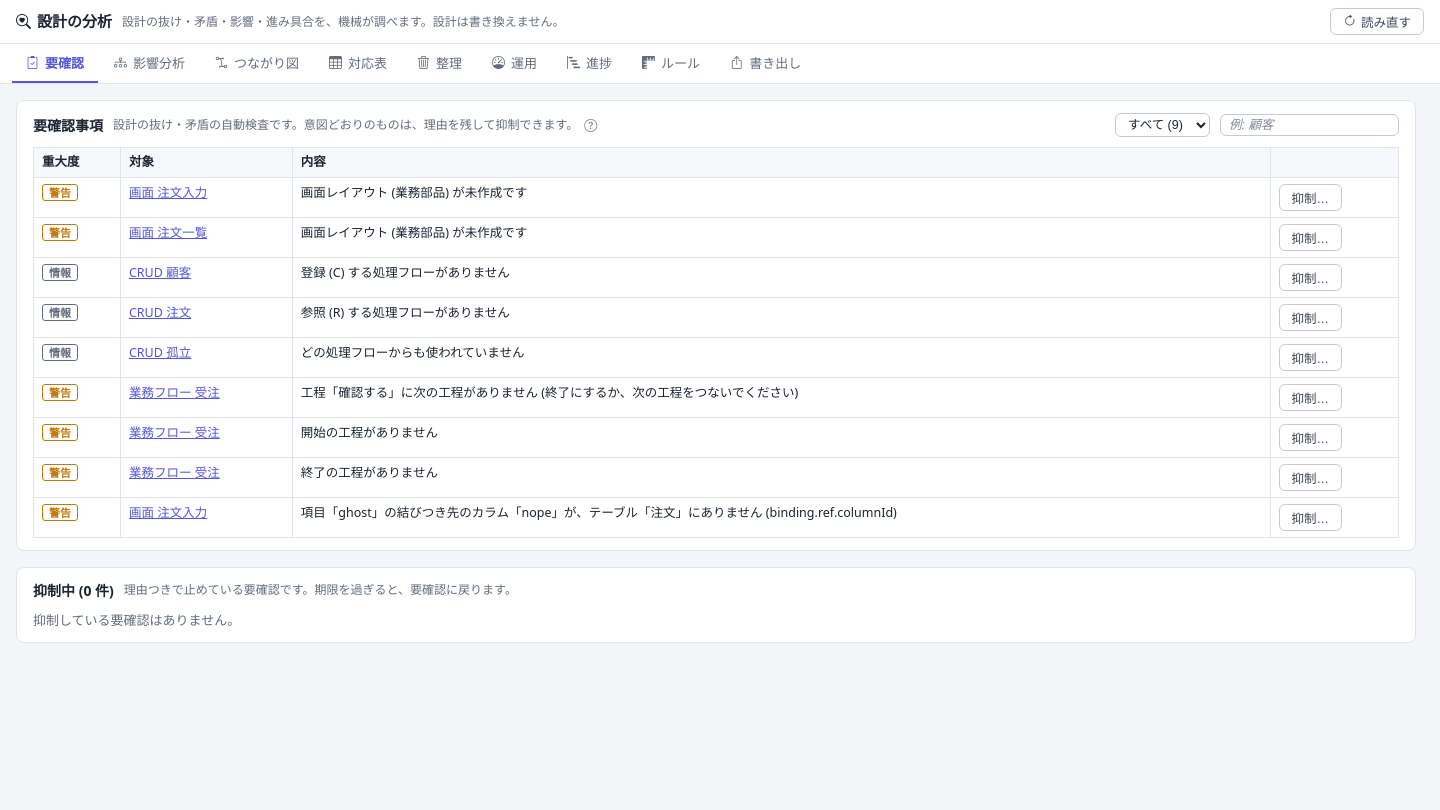
Test: 影響分析 › 誰も頼っていない設計は、その旨を出す
Click the tab "影響分析" at (150, 64), box [100,44,199,83]
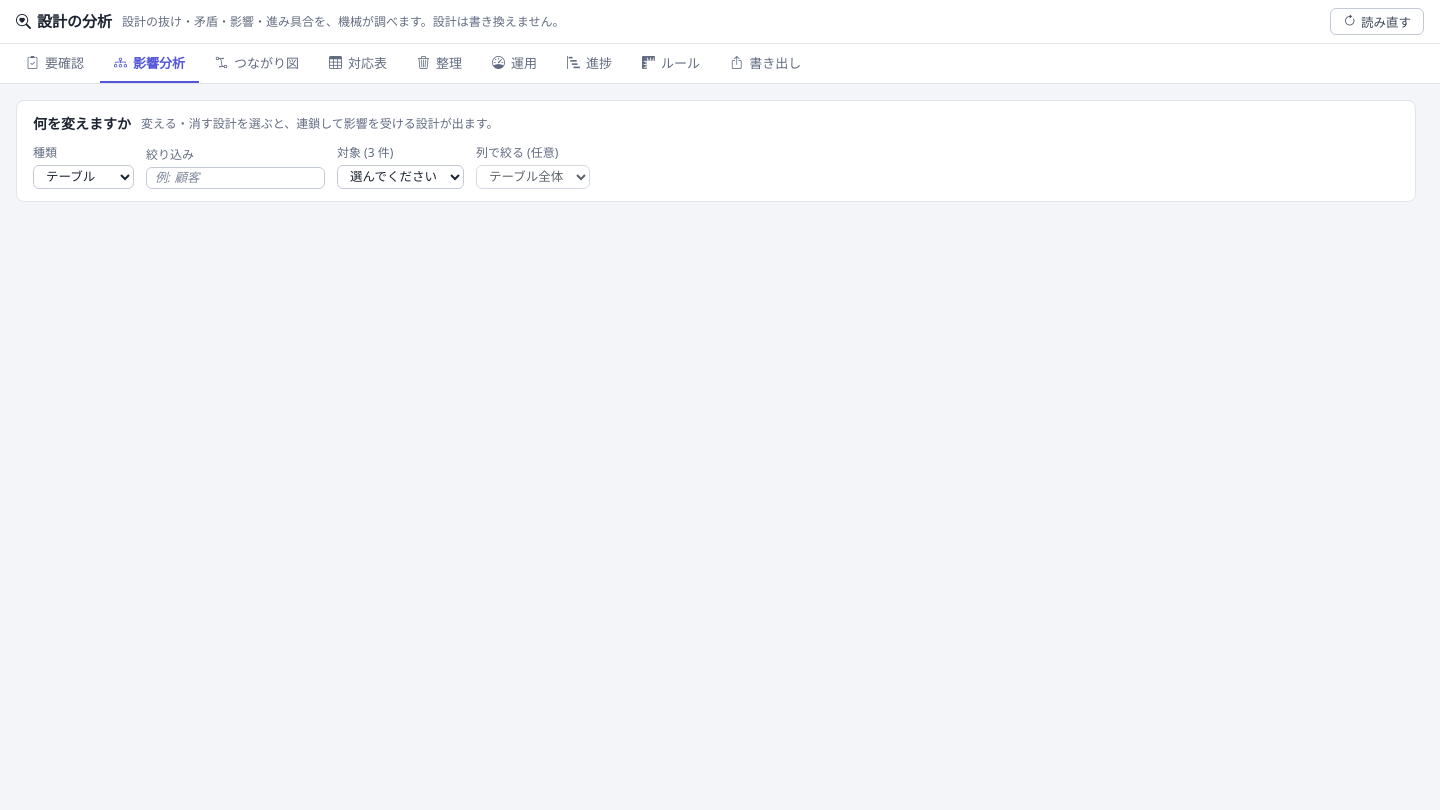
Select "孤立 (lonely)" in the dropdown with test id "an-impact-target" at (400, 177), box [337,165,464,189]
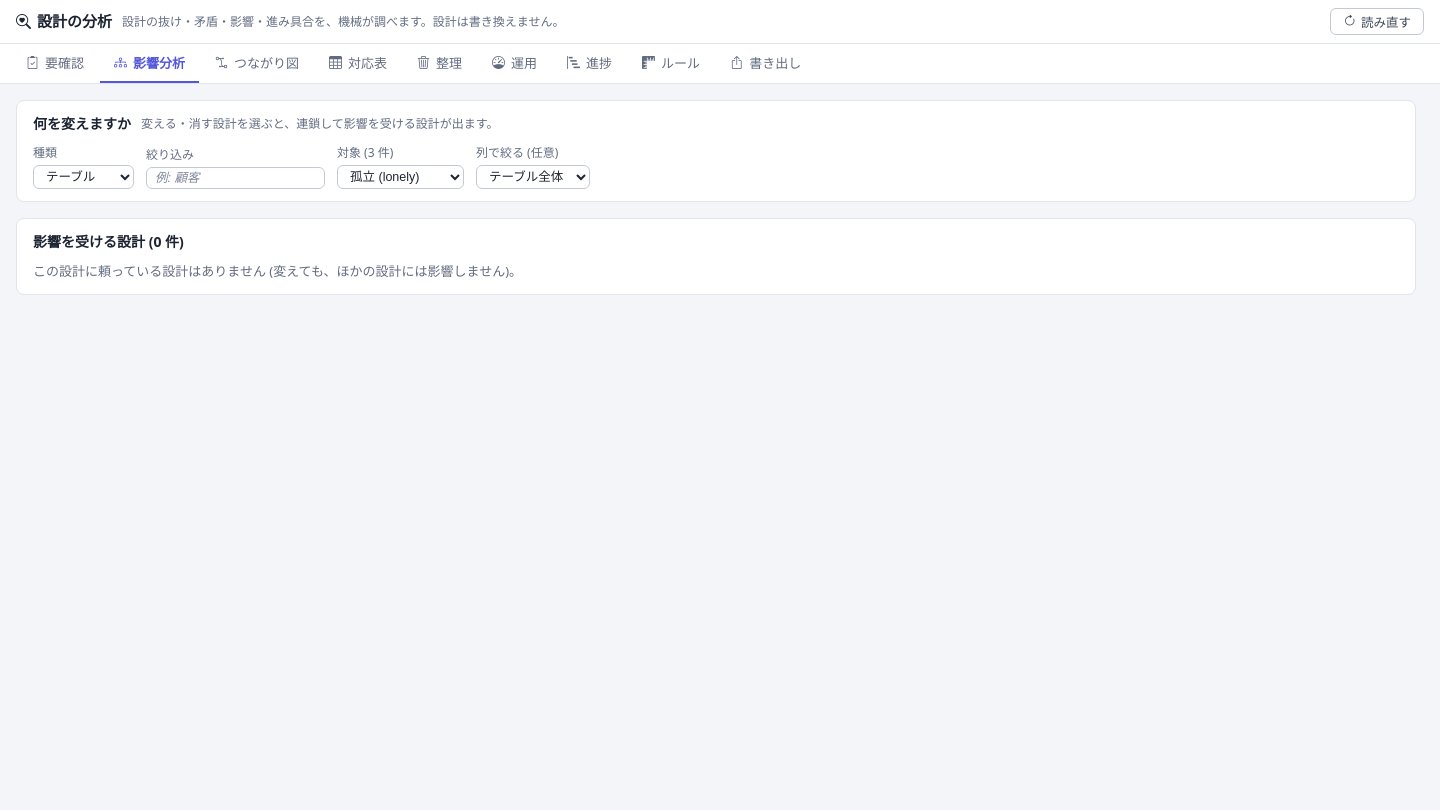
Expected: the element with test id "an-impact-result" shows "影響しません", [33,262,522,280]
